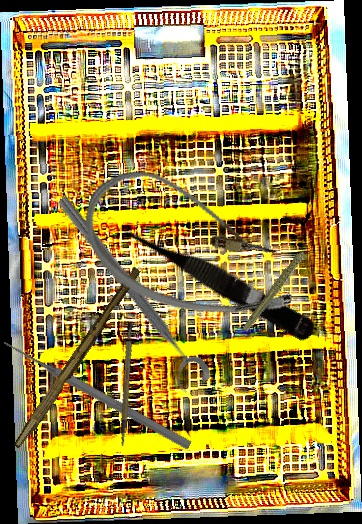Cannula: (68, 156, 315, 339)
Fixation Ring: (42, 191, 214, 398)
Handpiece: (227, 240, 332, 333)
Micro Scissor: (113, 212, 320, 344)
Pusher: (0, 336, 194, 452)
Scalpel Handle: (12, 264, 143, 453), (100, 321, 150, 448)
